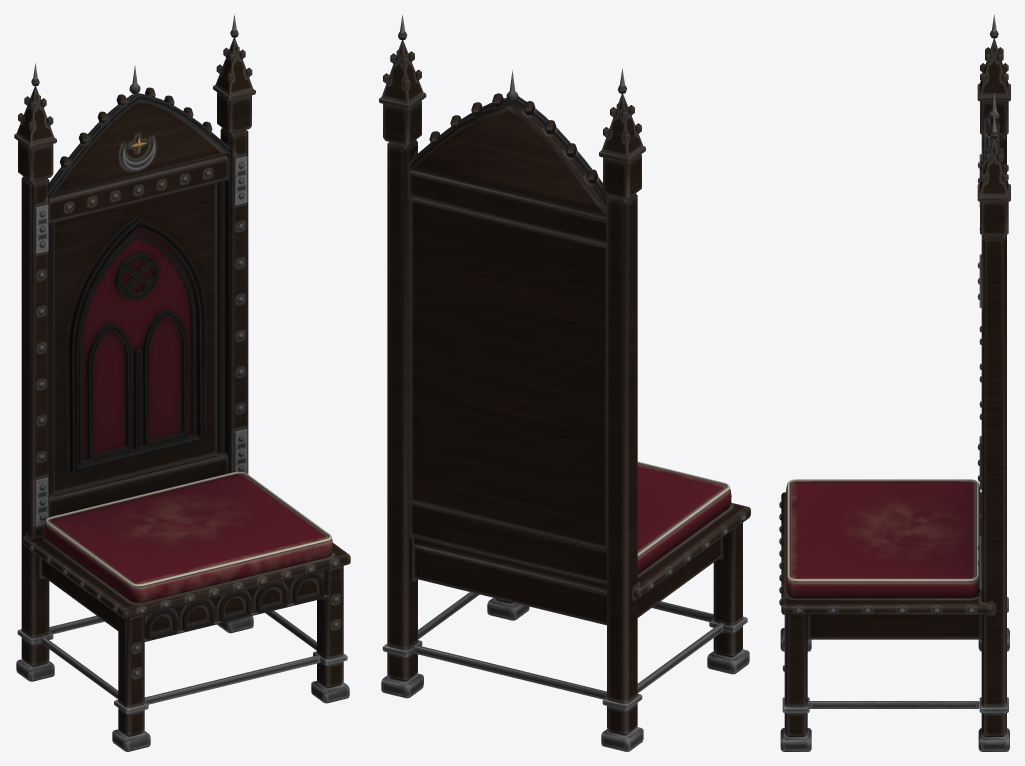
File: SeerChair.fbx
3 views of the same model, side by side, from view 1: azimuth 30°, elevation 25°; view 2: azimuth 150°, elevation 25°; view 3: azimuth 270°, elevation 25° (orthographic). The views are drawn at different scales.
Parts seen in each view (by area): view 1: SeerChair; view 2: SeerChair; view 3: SeerChair.
Boxes of the visible parts, x1,y1,x2,y2 form: SeerChair: (14, 14, 350, 751); SeerChair: (379, 15, 750, 751); SeerChair: (779, 15, 1010, 751).
Bounding box in the file's own units: 240 × 606 × 201.
